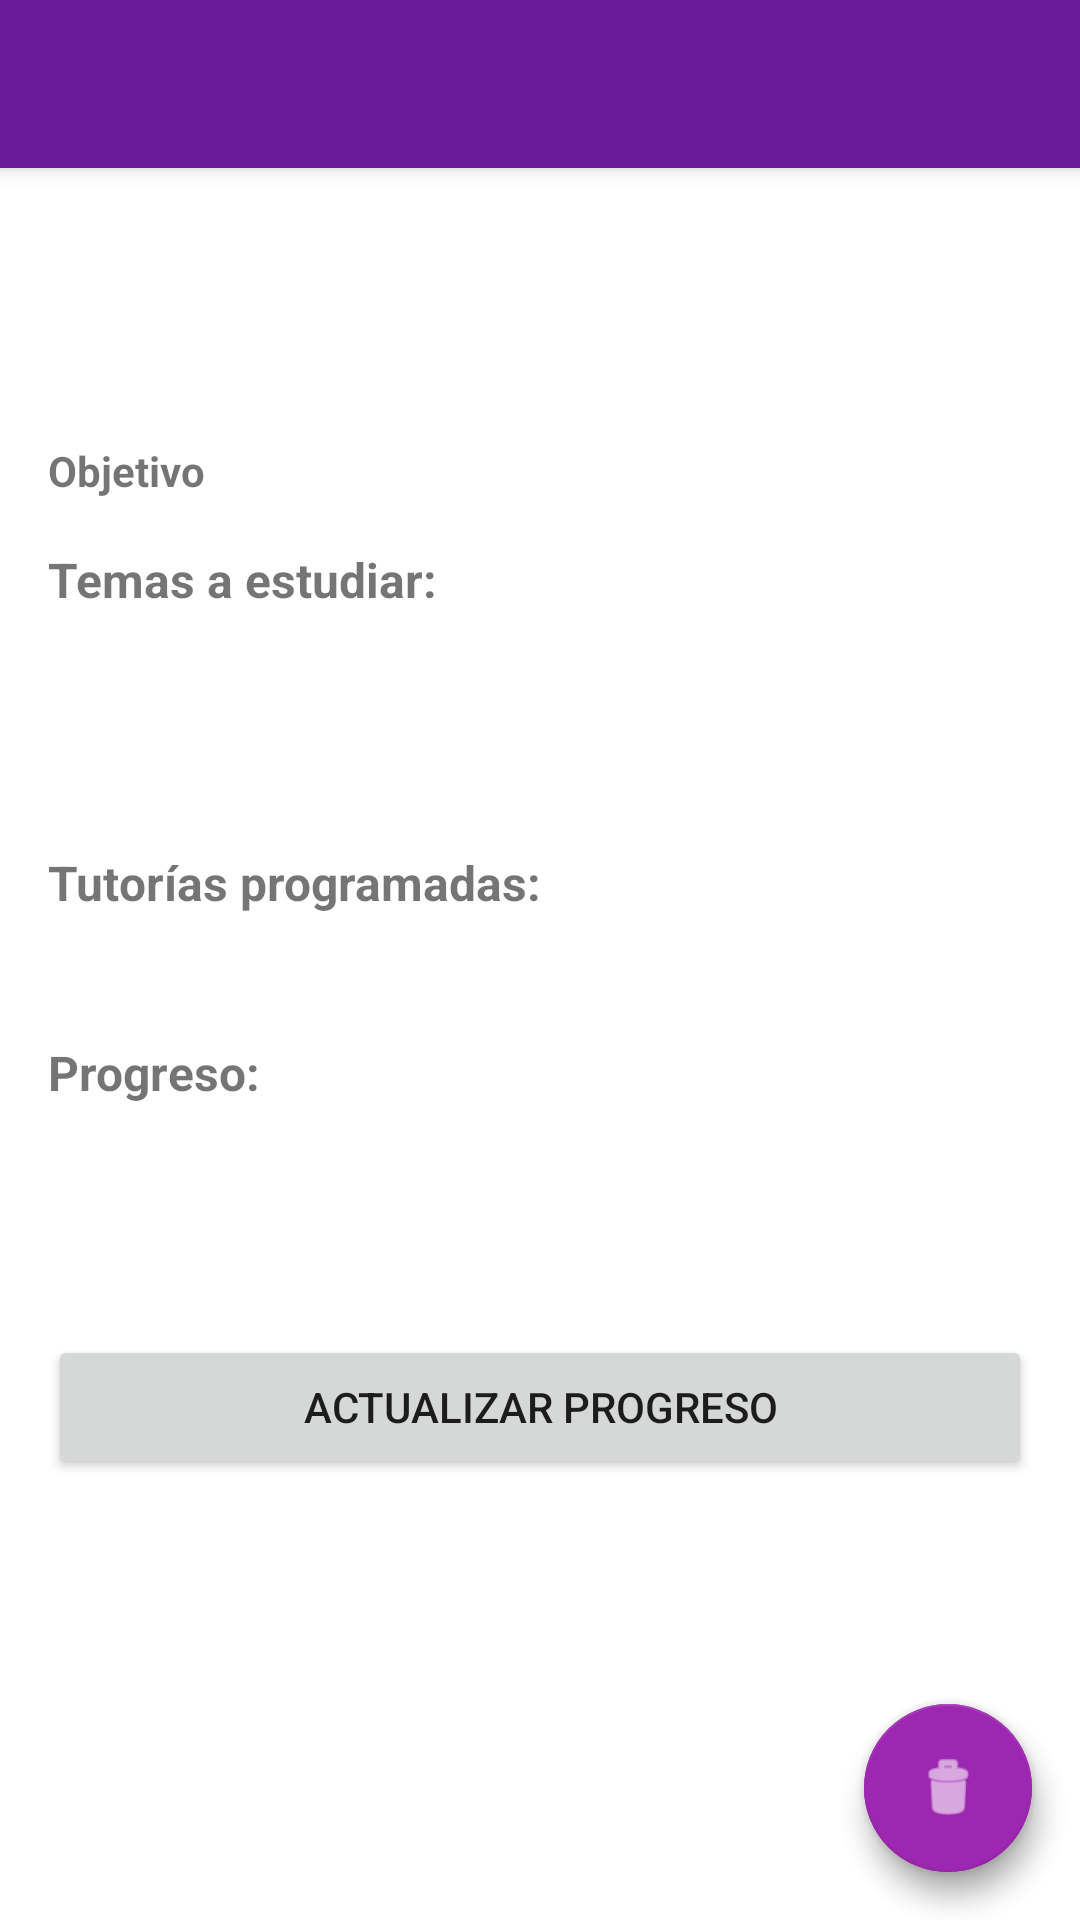

Locate icon controls on the screen. Image size 1080 × 1920, boxes as (x1, y1, x2, y2).
delete: (864, 1704, 1032, 1872)
